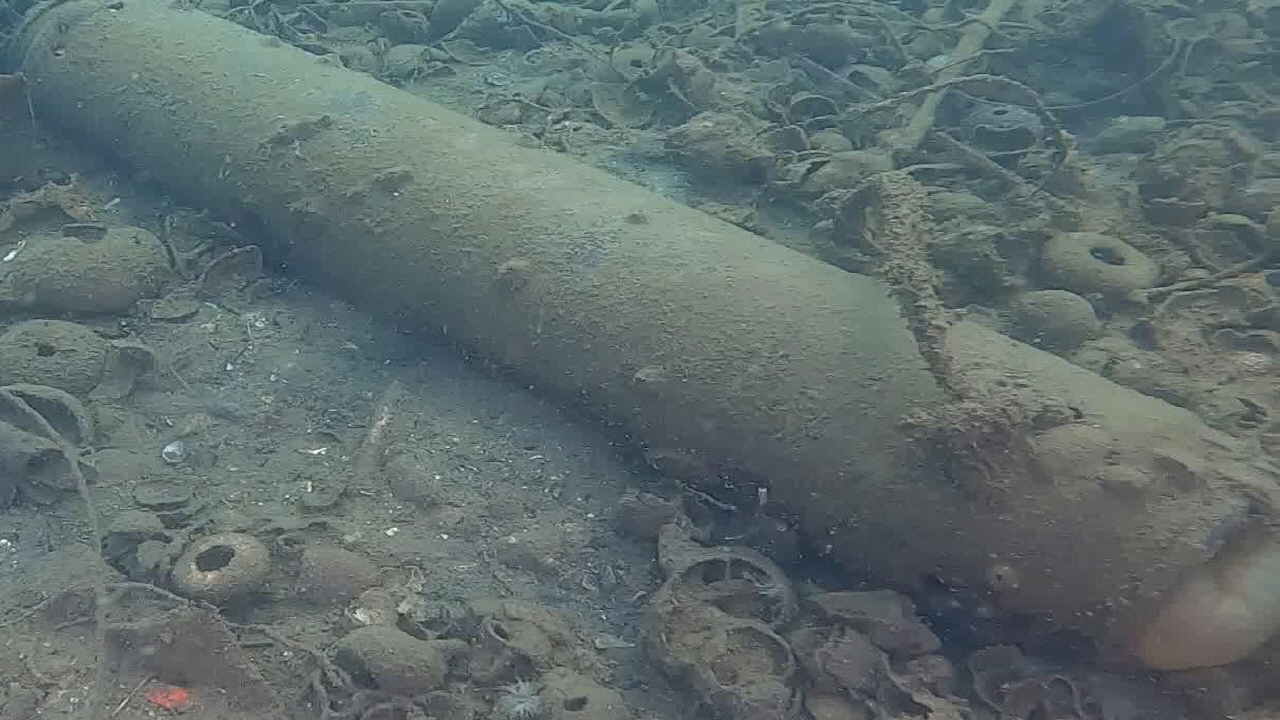eel fish trap: (7, 0, 1273, 670)
